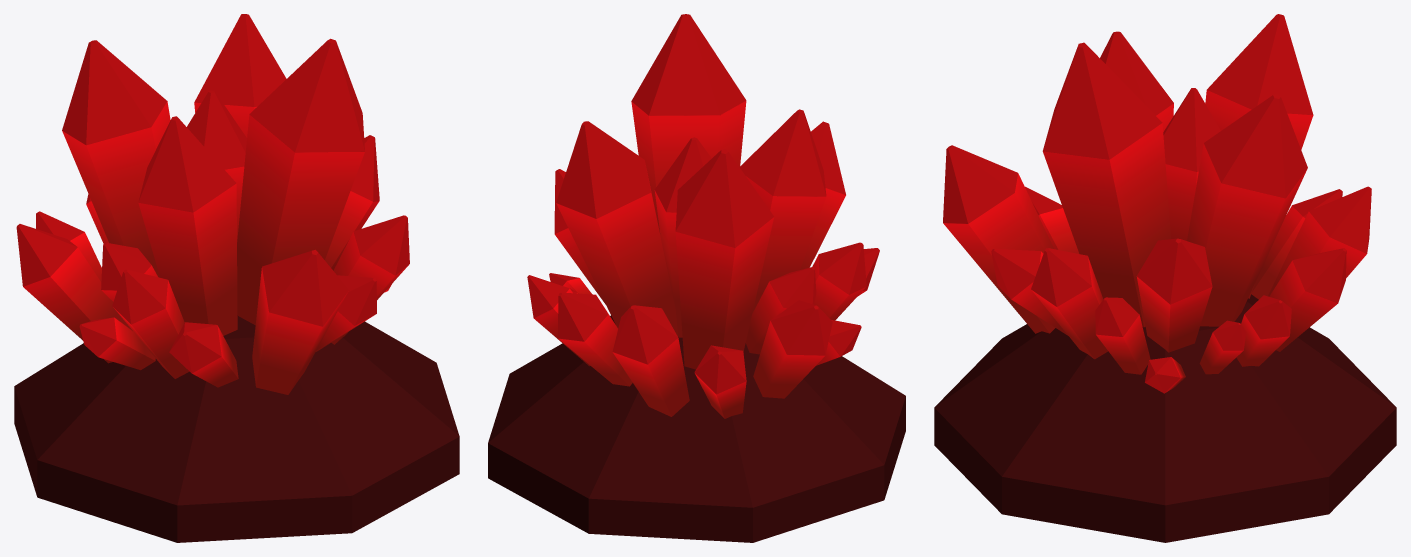
Rendered from test_crystal.glb.
3 views of the same model, side by side, from view 1: azimuth 30°, elevation 25°; view 2: azimuth 150°, elevation 25°; view 3: azimuth 270°, elevation 25° (orthographic). The views are drawn at different scales.
Parts seen in each view (by area): view 1: lava_crystal; view 2: lava_crystal; view 3: lava_crystal.
Boxes of the visible parts, bbox=[...] form: lava_crystal: bbox=[14, 14, 459, 542]; lava_crystal: bbox=[488, 14, 905, 542]; lava_crystal: bbox=[934, 14, 1396, 542].
Bounding box in the file's own units: 1.53 × 1.56 × 1.53.
2 materials, 1 textured.
